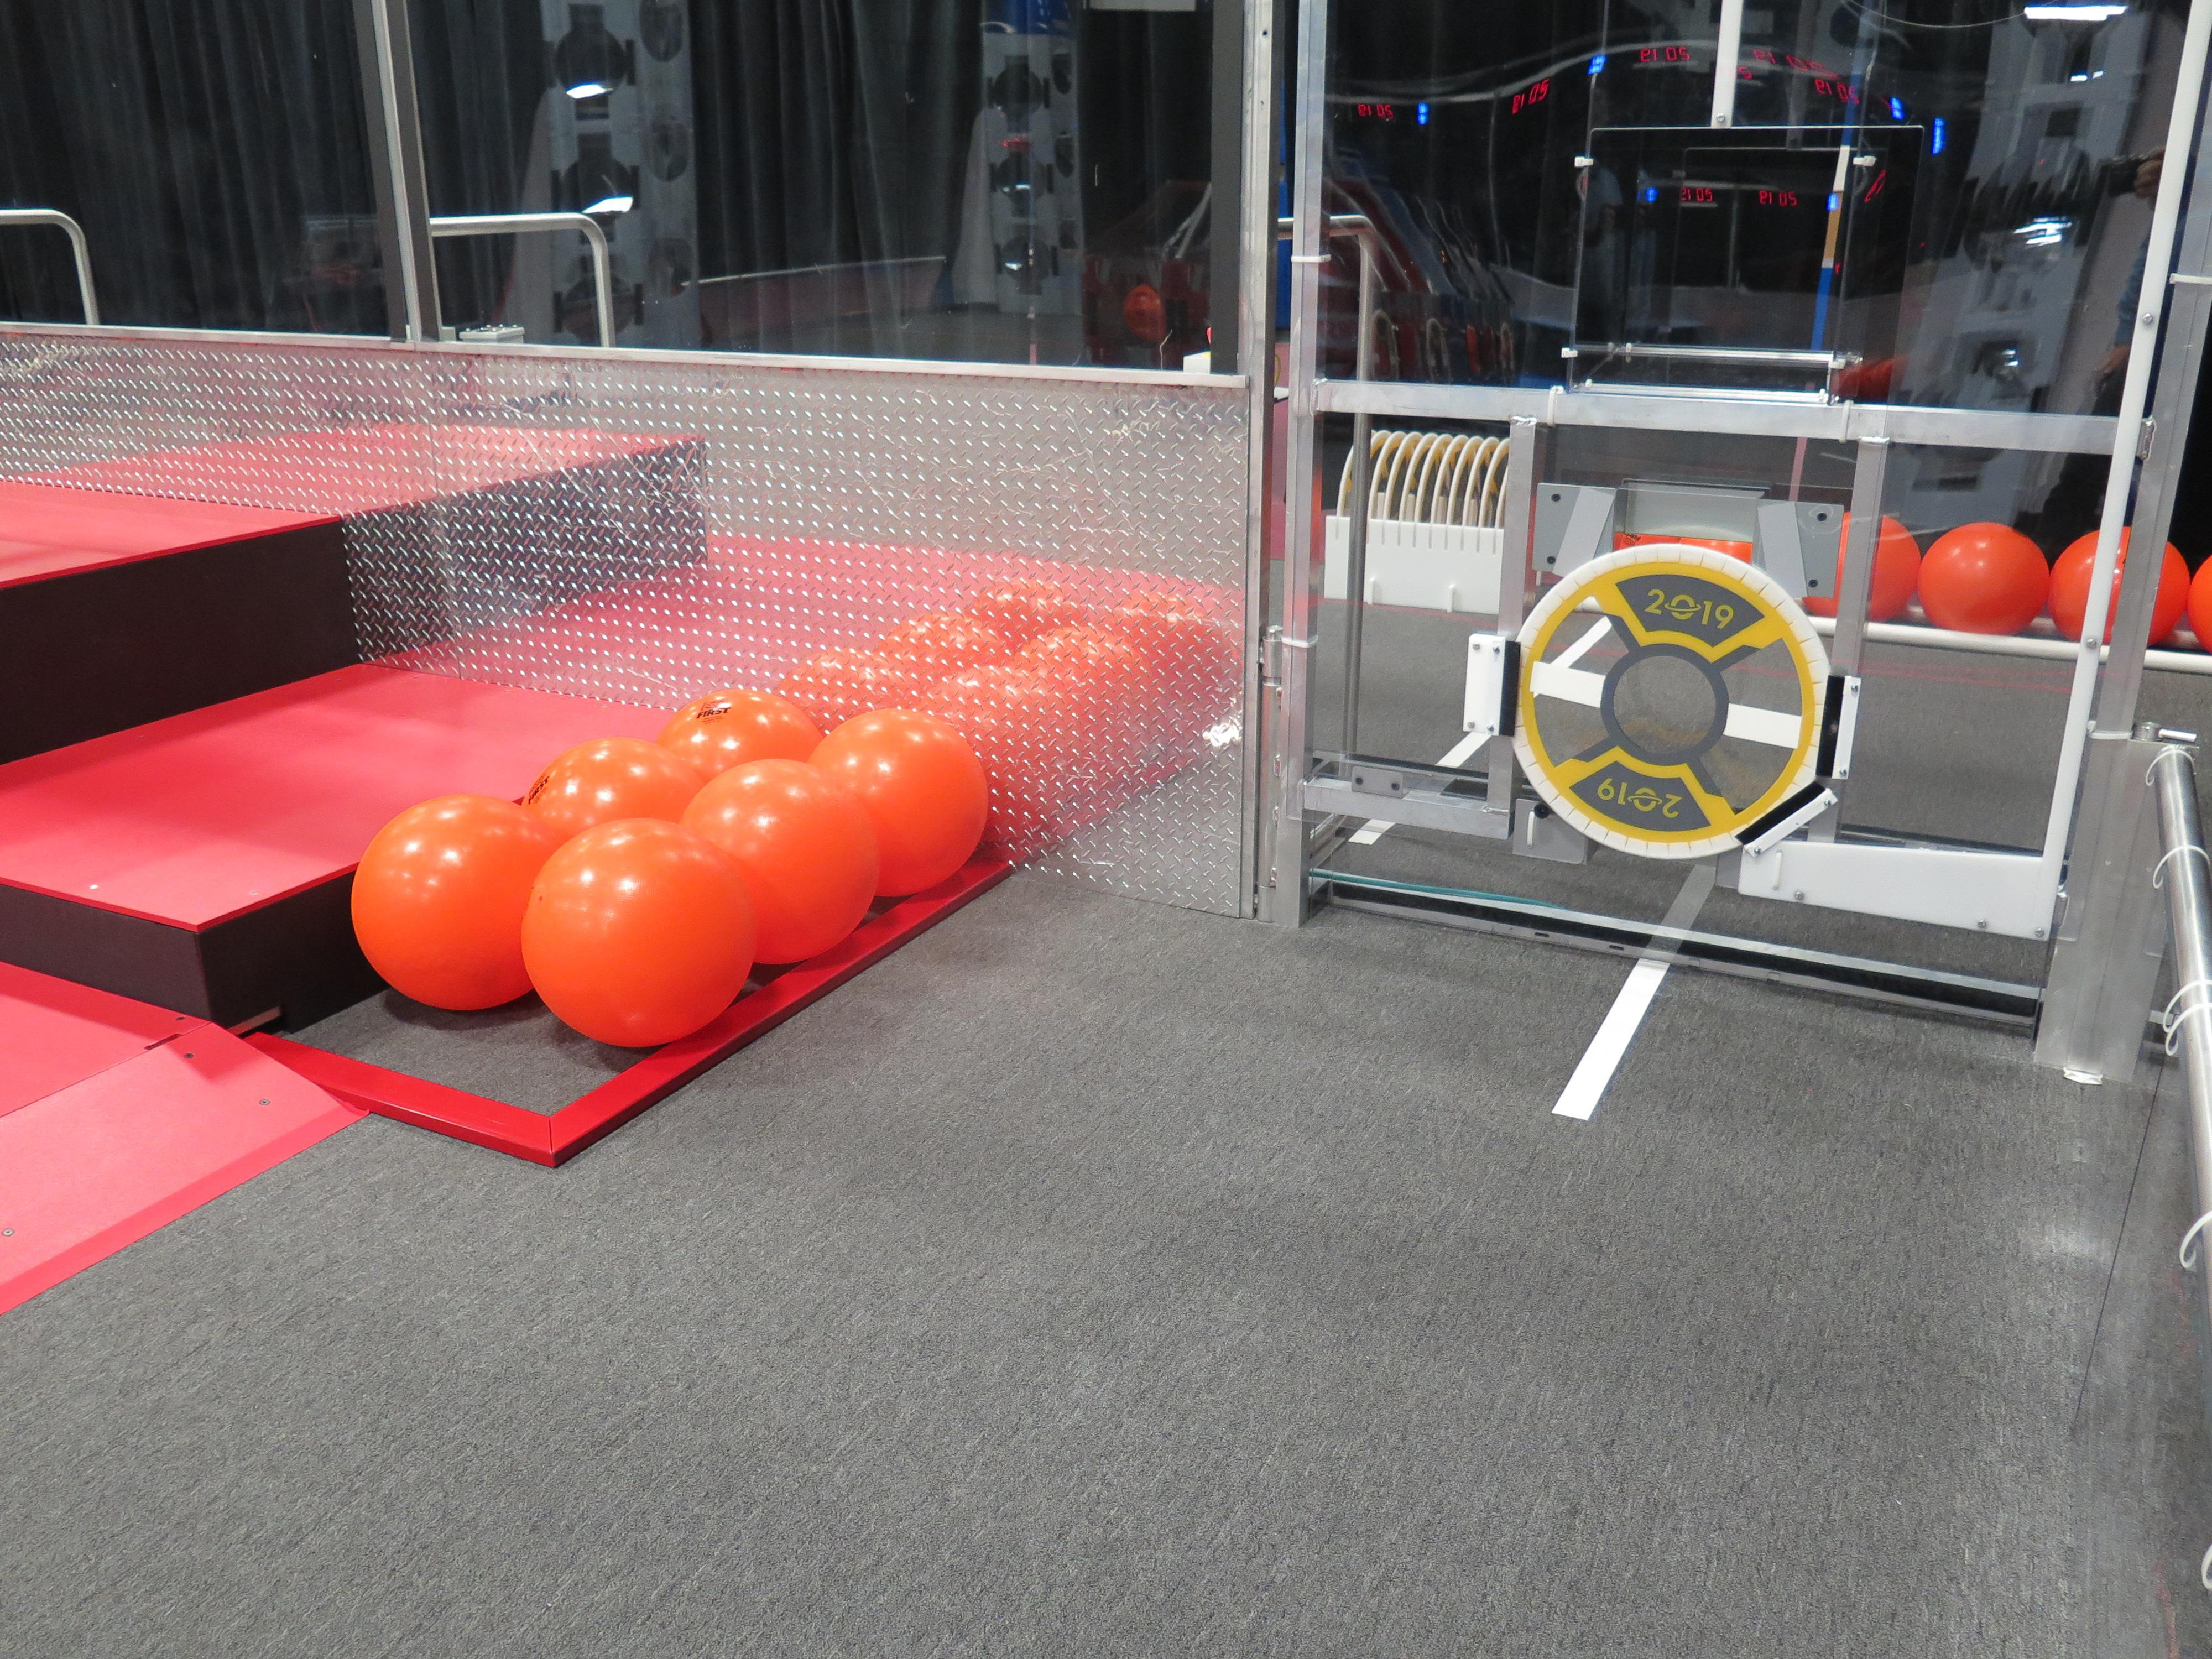Ball: (523, 812, 754, 1047), (352, 795, 547, 1014), (681, 758, 871, 965), (810, 706, 988, 896), (519, 739, 700, 845), (655, 688, 824, 789), (1916, 521, 2048, 636)
Hatch: (1507, 545, 1841, 859)
Tape: (1548, 479, 1613, 586), (1754, 497, 1810, 603)
